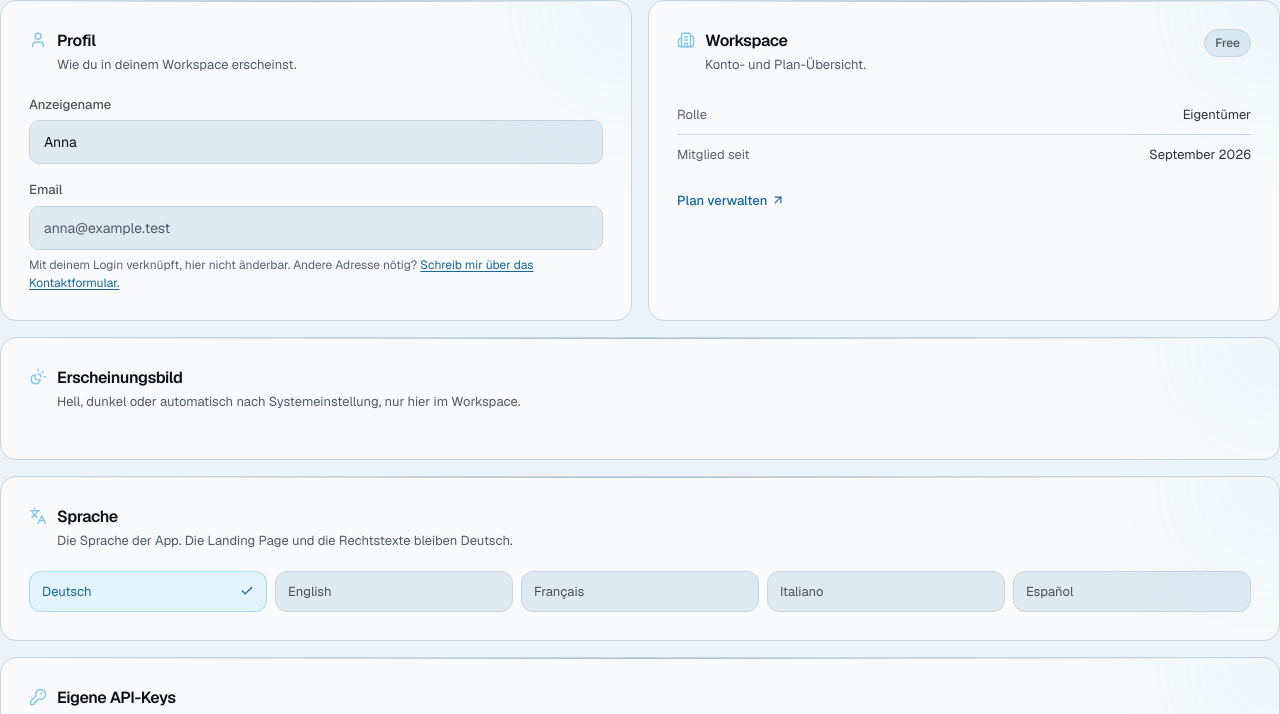
Test: Speichern › schreibt den getrimmten Namen auf das eigene Profil, meldet Erfolg, lädt neu und schliesst die Leiste
Step 1. Replace the text in the field named "Anzeigename" with "  Maria Neu  " → (316, 142), box top-left (29, 120), bottom-right (603, 164)
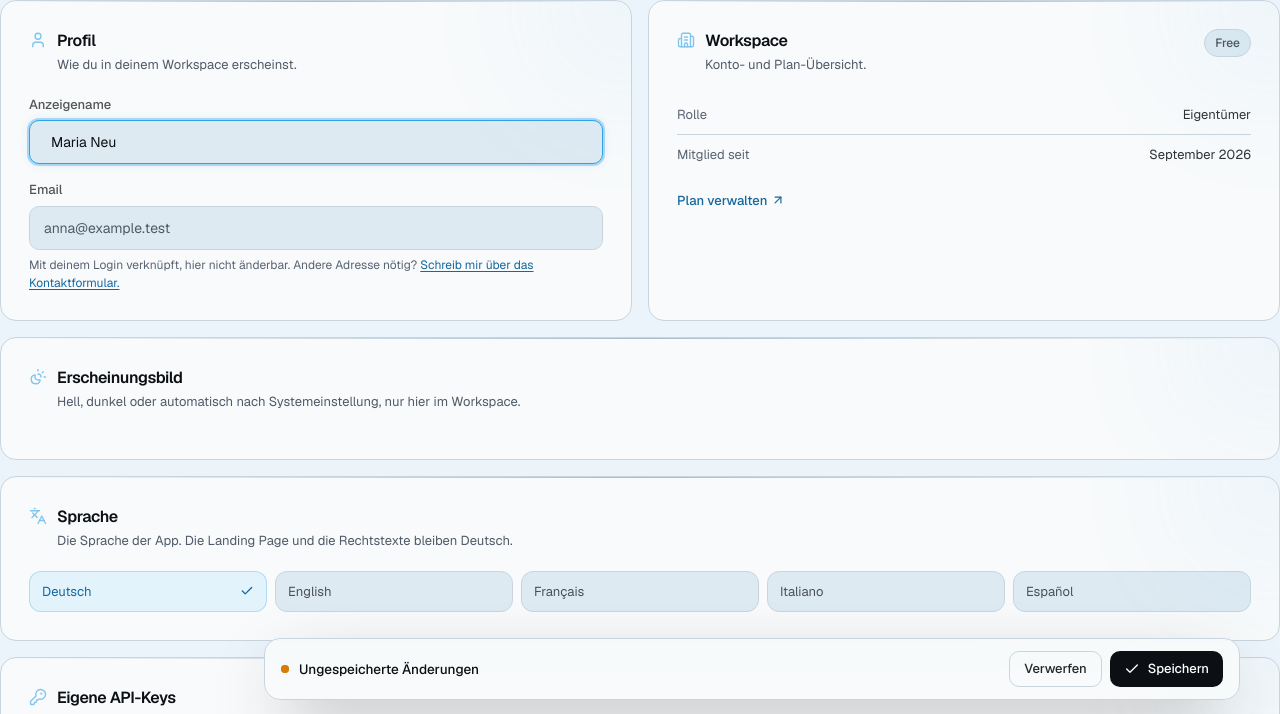
Step 2. Click the button "Speichern" → (1166, 669), box top-left (1110, 651), bottom-right (1223, 687)
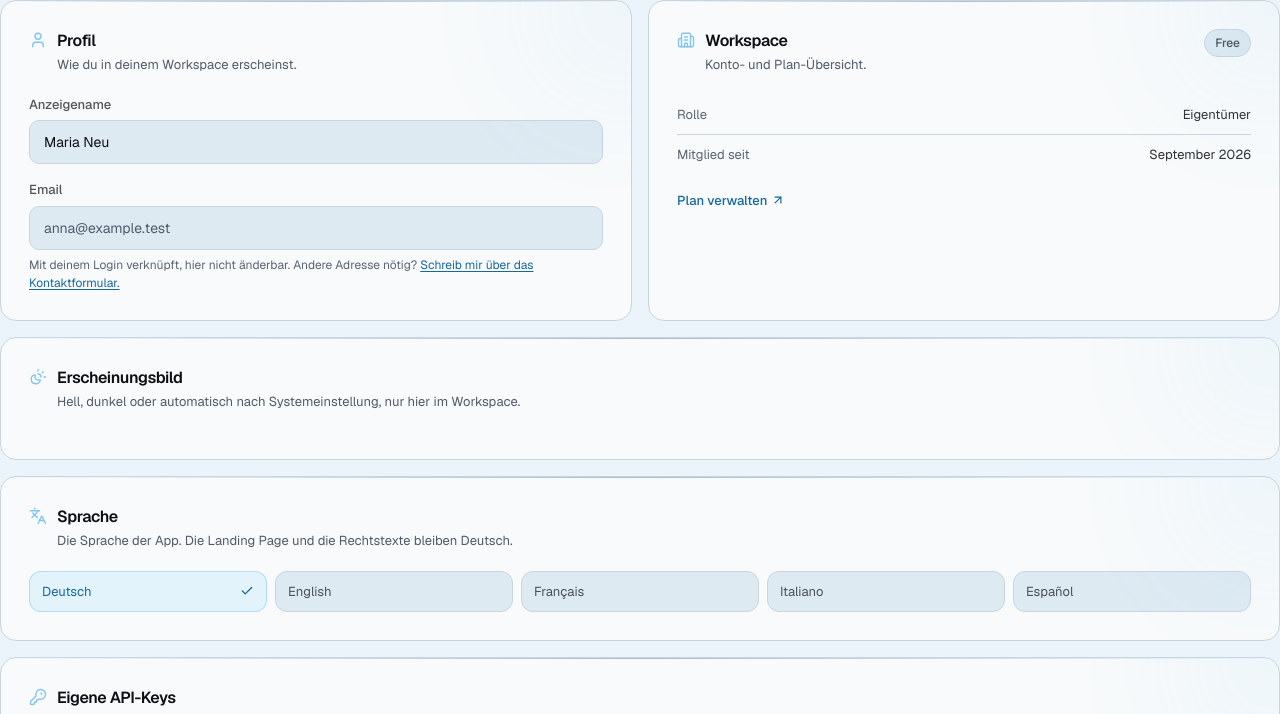
Check: the text "Ungespeicherte Änderungen" is gone
